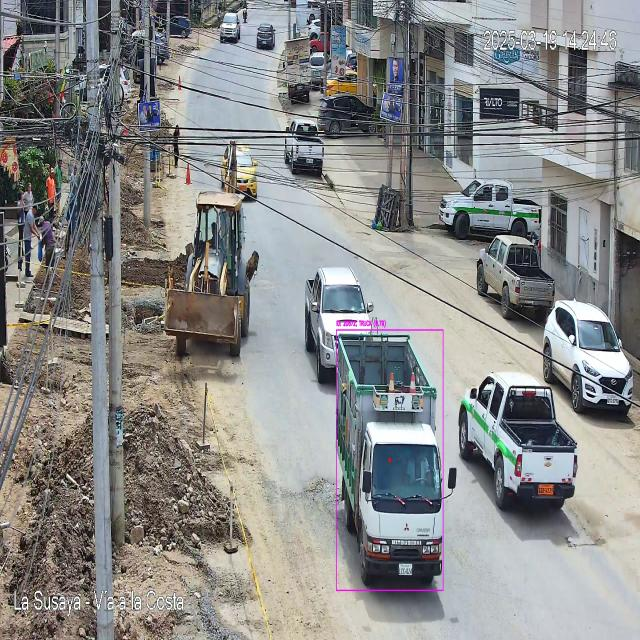CMT: (459, 371, 578, 519), (306, 266, 372, 393)
TRUCK: (337, 336, 443, 585)
